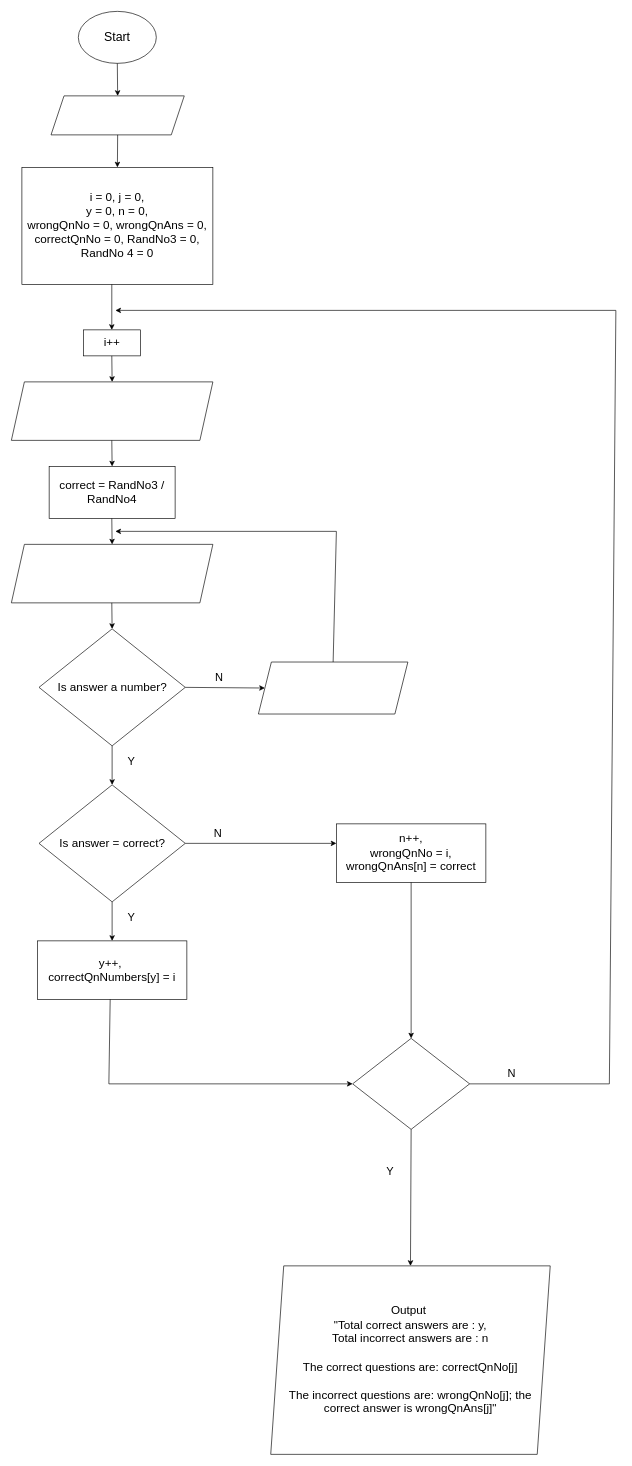
The diagram is 632 pixels wide and 1466 high, and some of its shapes have lost their labels. The centre of each missing label's shape, as x and y in pixels:
Division Level 1: pixel 117 115
Input Answer: pixel 112 573
Is i = 10?: pixel 411 1083
Output "Please input numbers only.": pixel 333 687
Output "Question [i]: RandNo3 / RandNo4?": pixel 112 410
